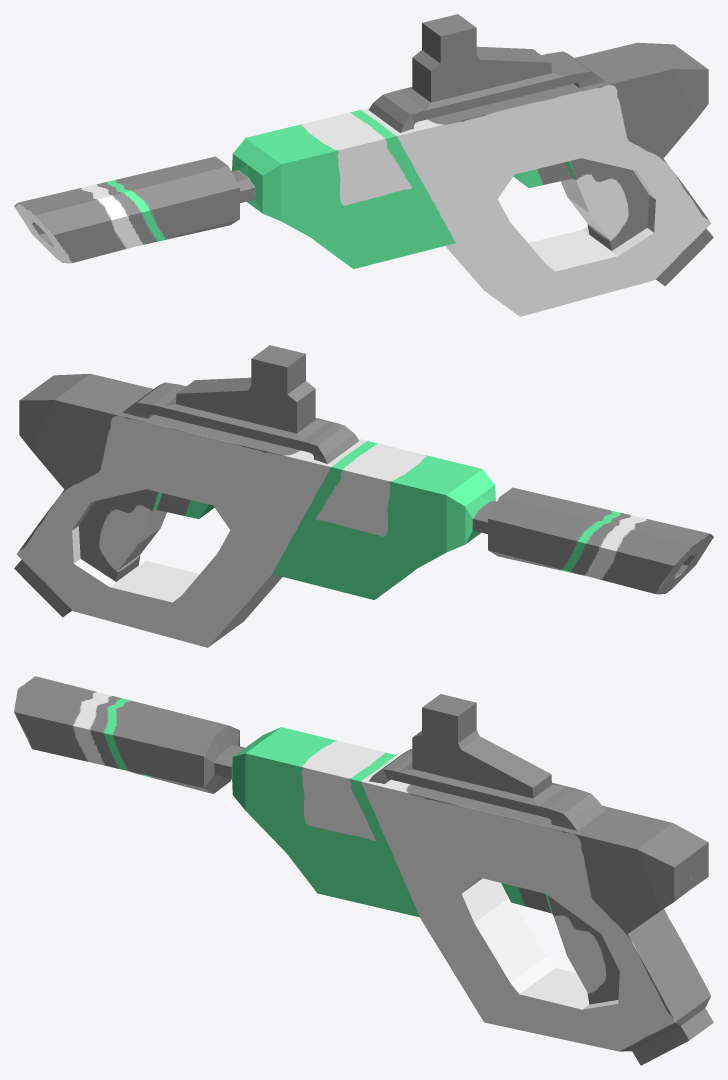
File: gun.fbx
The picture shows the model from 3 angles, top to bottom: view 1: azimuth 30°, elevation 25°; view 2: azimuth 150°, elevation 25°; view 3: azimuth 330°, elevation 25°; orthographic projection.
Visible parts, largest first — view 1: Куб.007; view 2: Куб.007; view 3: Куб.007.
Boxes of the visible parts, bbox=[...] form: Куб.007: bbox=[14, 14, 713, 316]; Куб.007: bbox=[14, 345, 713, 647]; Куб.007: bbox=[14, 676, 713, 1065].
Bounding box in the file's own units: 180 × 76.96 × 18.33.
1 material, 1 textured.
